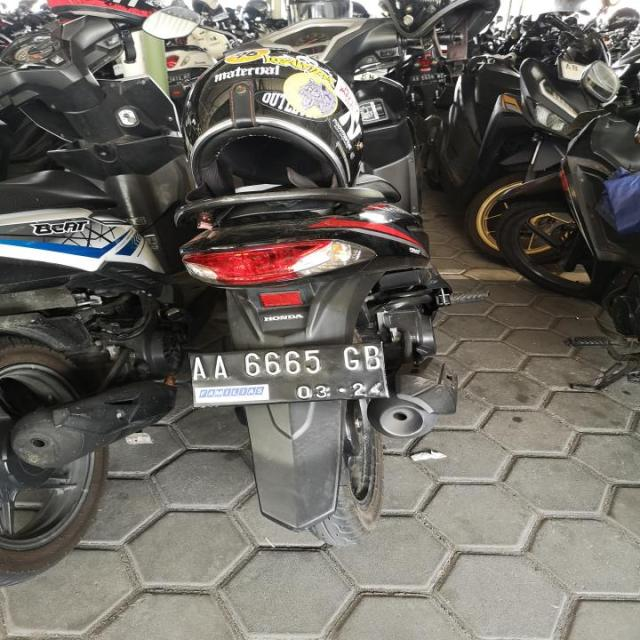License Plate: (188, 338, 390, 409)
